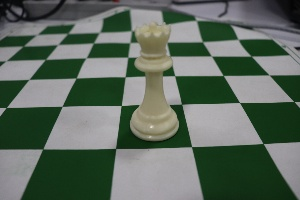white_queen: (124, 9, 188, 155)
